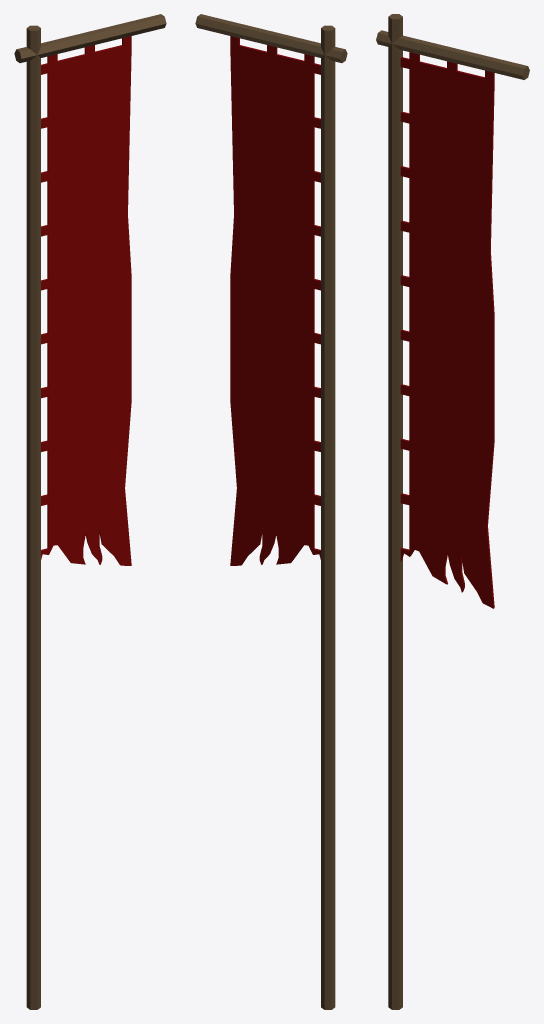
Rendered from Asian_Prop_Field_Castle_Flag_Tattered_01.FBX.
3 views of the same model, side by side, from view 1: azimuth 30°, elevation 25°; view 2: azimuth 150°, elevation 25°; view 3: azimuth 330°, elevation 25° (orthographic).
Visible parts, largest first — view 1: Asian_Prop_Field_Castle_Flag_Tattered_01; view 2: Asian_Prop_Field_Castle_Flag_Tattered_01; view 3: Asian_Prop_Field_Castle_Flag_Tattered_01.
Part boxes in pixels (x1,y1,x2,y2): Asian_Prop_Field_Castle_Flag_Tattered_01: (14,14,166,1009); Asian_Prop_Field_Castle_Flag_Tattered_01: (195,14,347,1009); Asian_Prop_Field_Castle_Flag_Tattered_01: (376,14,529,1009).
Size of the model in its own units: 912 by 5886 by 78.52.
